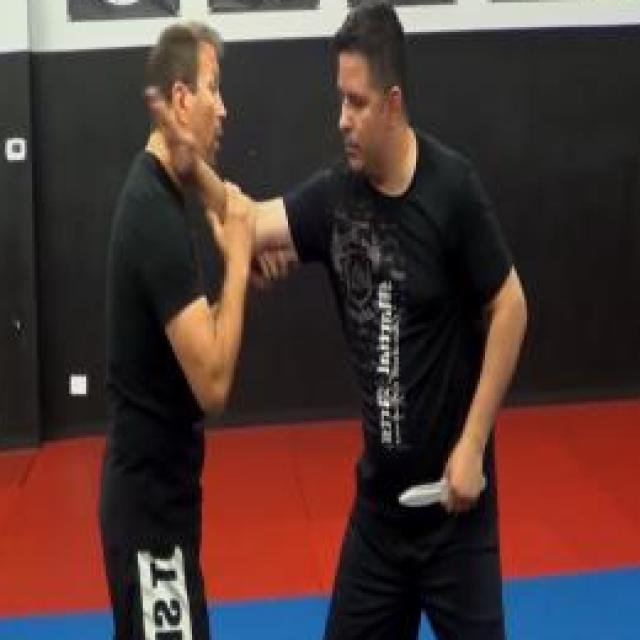knife: (396, 468, 490, 514)
